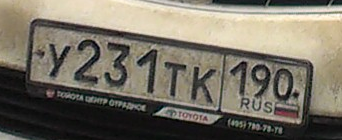character: (103, 40, 130, 90), (75, 37, 101, 86), (136, 45, 161, 95), (189, 62, 217, 106), (46, 41, 74, 81), (164, 58, 187, 102), (249, 61, 270, 100), (273, 64, 294, 103), (229, 56, 248, 95)
